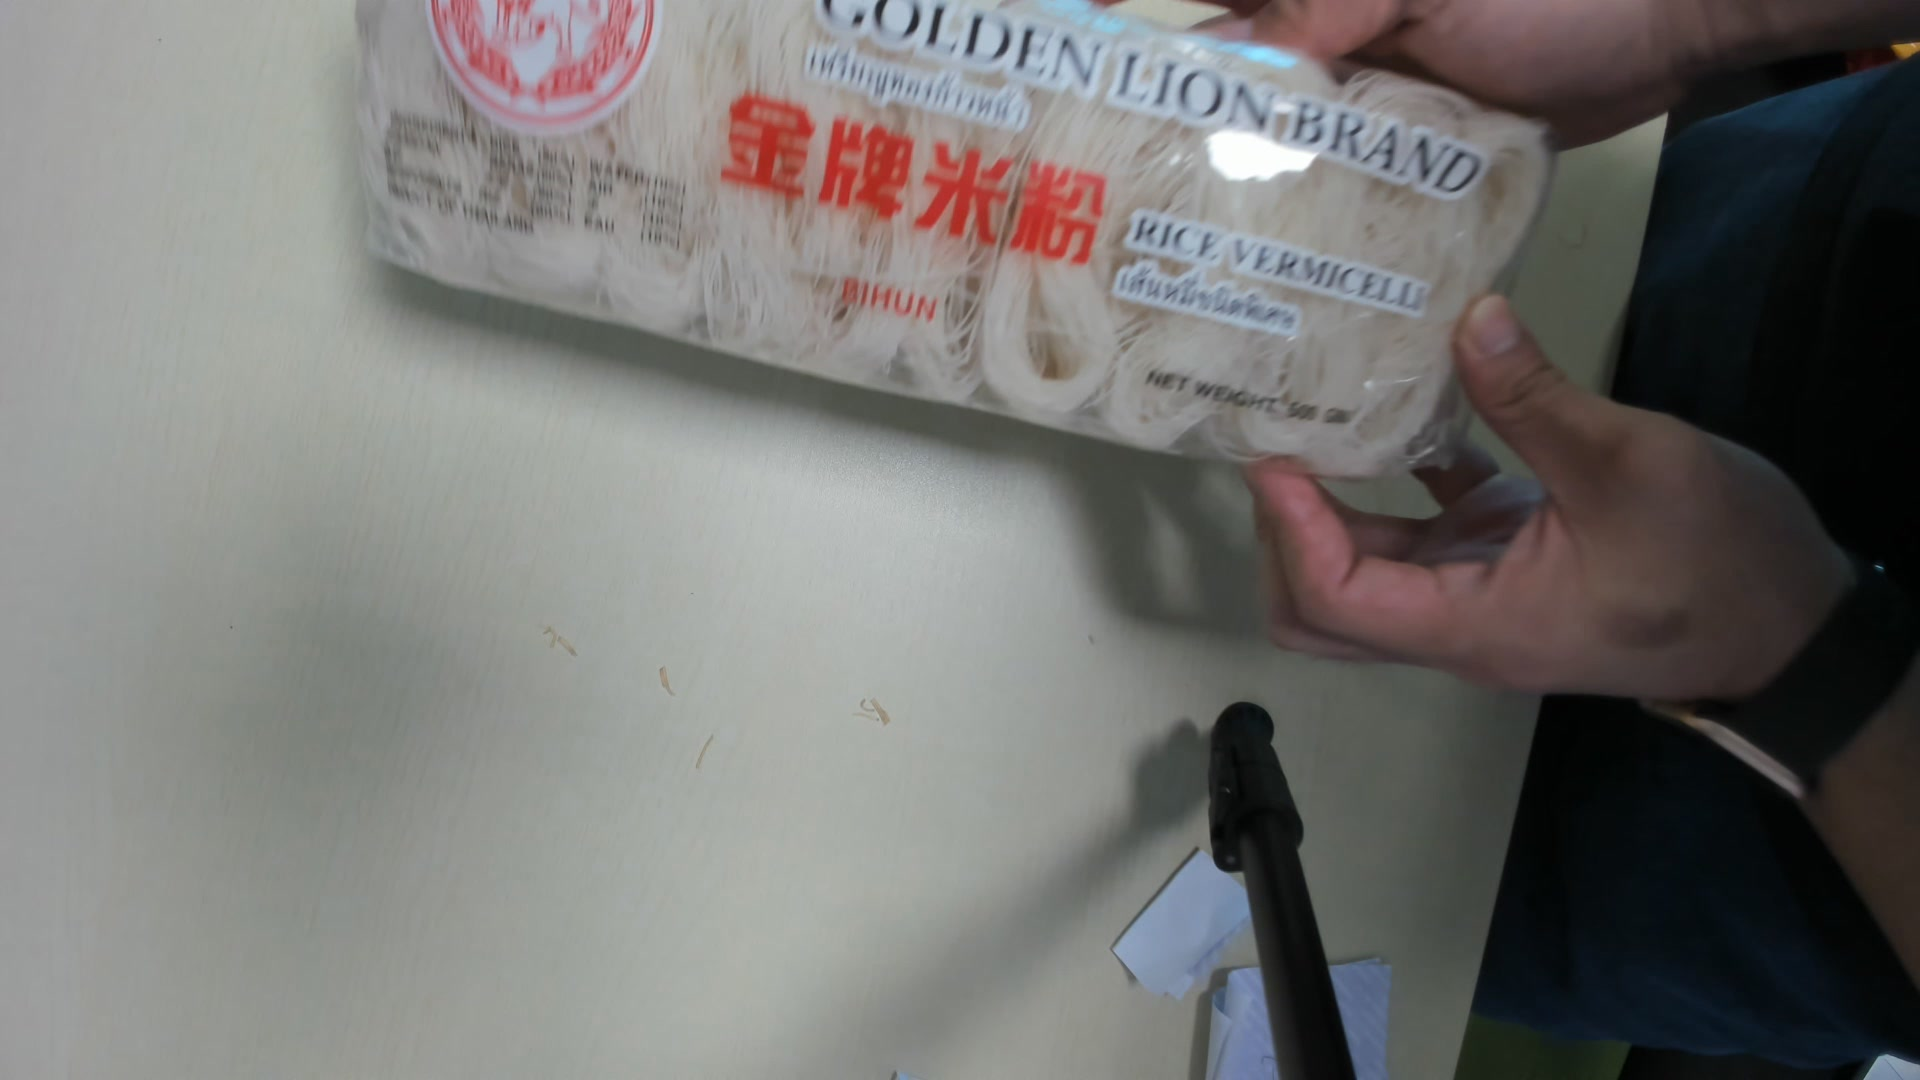BeeHoonVermicelli_500-599g_Halal_NonHealthy: (355, 1, 1553, 535)
